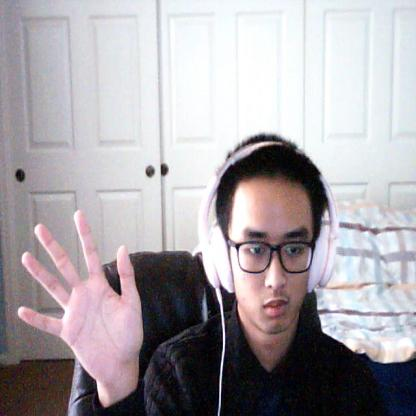palm: (16, 208, 147, 384)
